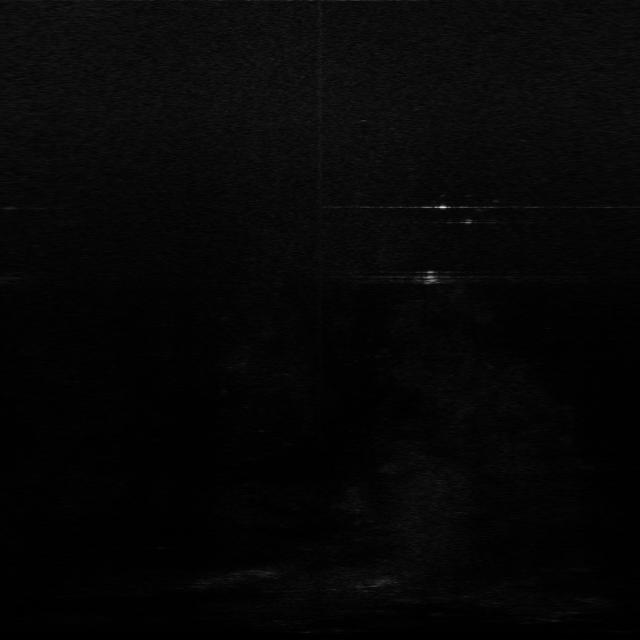rov: (416, 268, 444, 288)
